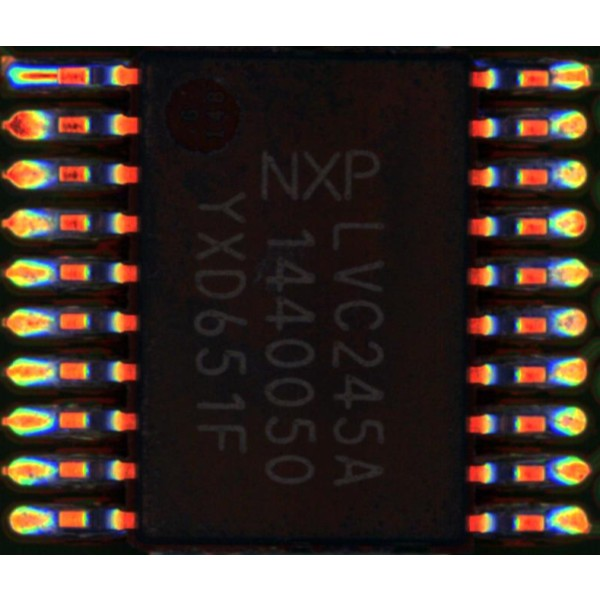Bad_podu: (536, 72, 572, 84), (44, 71, 70, 83)
